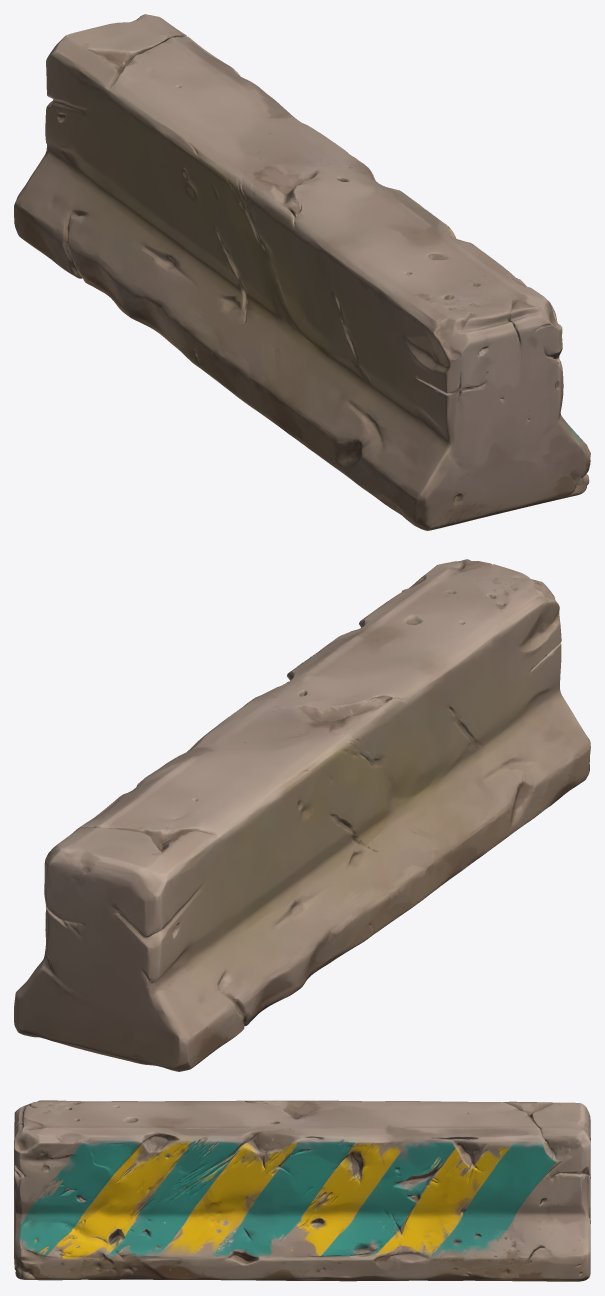
Rendered from barrier.glb.
3 views of the same model, one above another, from view 1: azimuth 30°, elevation 25°; view 2: azimuth 150°, elevation 25°; view 3: azimuth 270°, elevation 25° (orthographic). The views are drawn at different scales.
Visible parts, largest first — view 1: tripo_node_85cf497f-4ba6-4150-bb13-63e16ed637a8; view 2: tripo_node_85cf497f-4ba6-4150-bb13-63e16ed637a8; view 3: tripo_node_85cf497f-4ba6-4150-bb13-63e16ed637a8.
Boxes of the visible parts, x1,y1,x2,y2 form: tripo_node_85cf497f-4ba6-4150-bb13-63e16ed637a8: (14, 14, 590, 530); tripo_node_85cf497f-4ba6-4150-bb13-63e16ed637a8: (14, 559, 590, 1071); tripo_node_85cf497f-4ba6-4150-bb13-63e16ed637a8: (14, 1100, 590, 1281).
Size of the model in its own units: 0.2459 by 0.2593 by 0.9797.
Materials: 1 (1 with a texture image).
